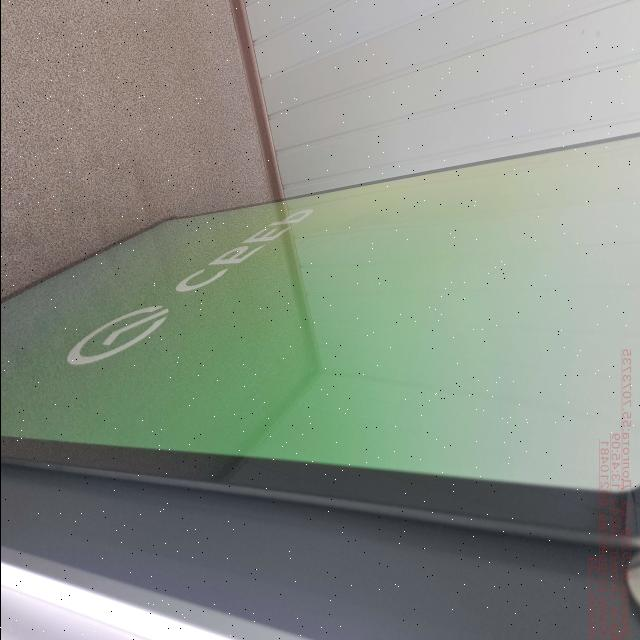bank: (0, 132, 640, 640)
